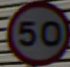Speed limit: (3, 0, 66, 64)
